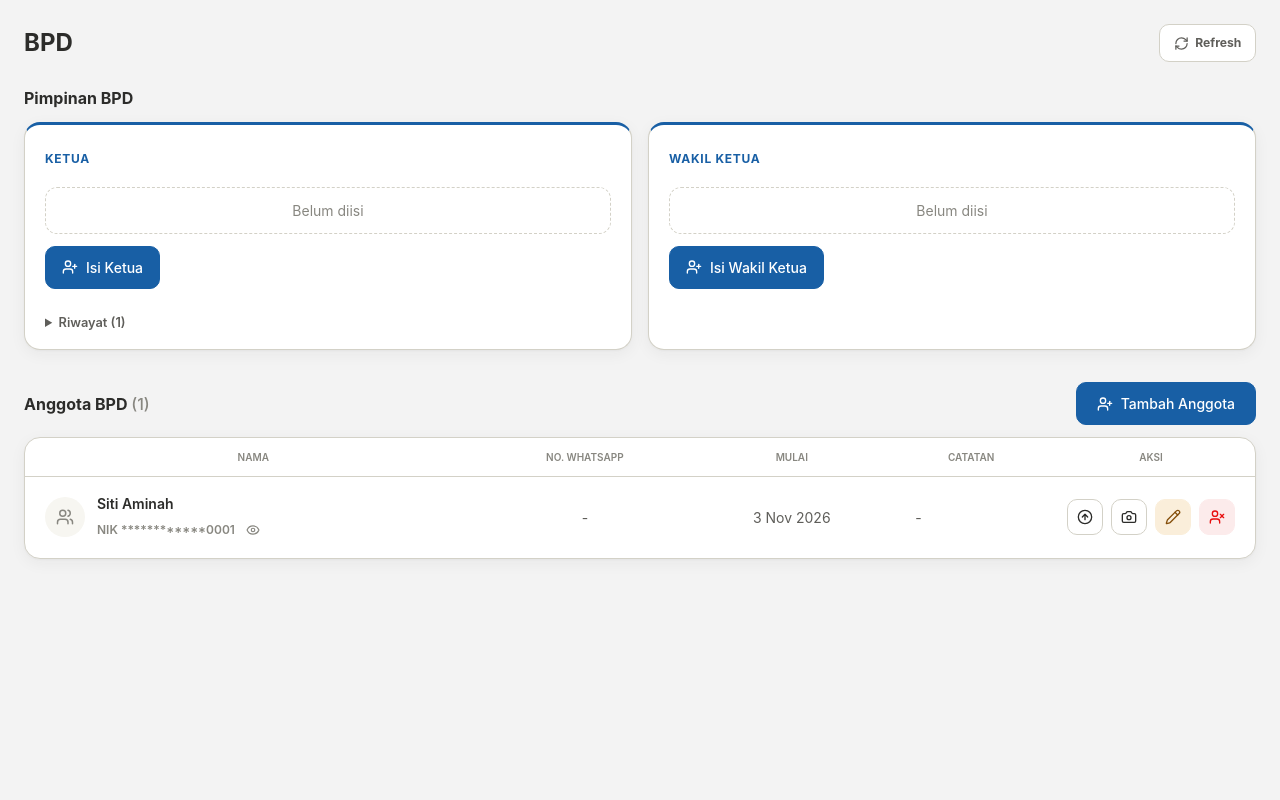
Test: OrganisasiManager › ends a membership instead of deleting it
Click the button named "Akhiri keanggotaan Siti Aminah": (1217, 518) [1199,500,1235,536]
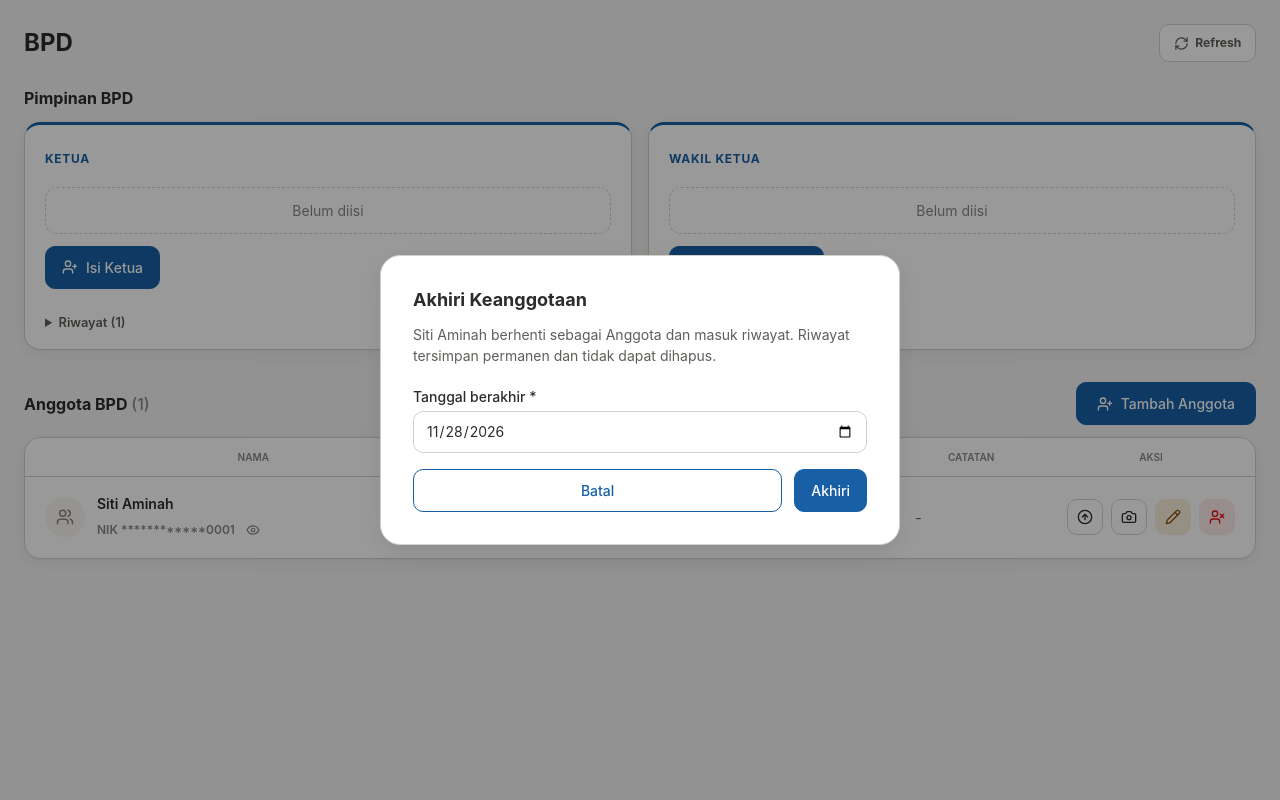
Expected: the heading "Akhiri Keanggotaan" is shown, [413,289,587,310]
